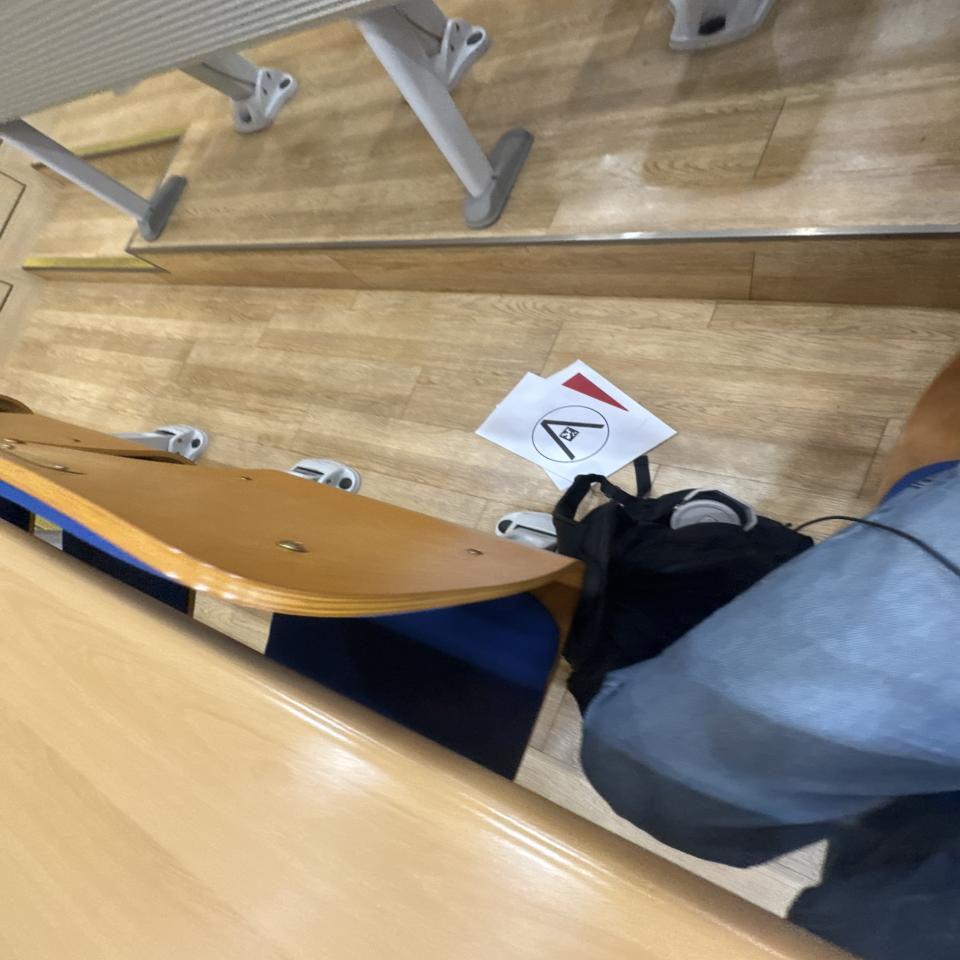vertiport: (525, 398, 617, 466)
